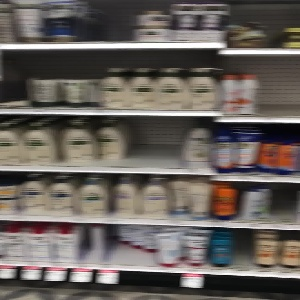void: (255, 55, 300, 116), (132, 116, 184, 166), (270, 183, 300, 223), (232, 228, 255, 274)
